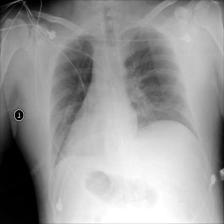normal: (43, 23, 202, 172)
